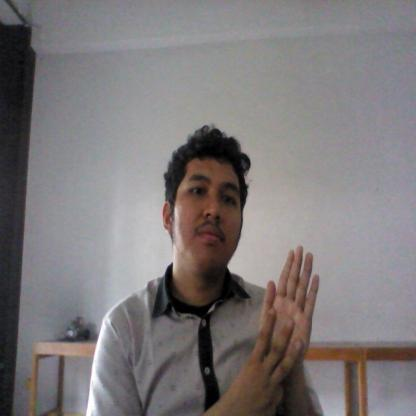M: (243, 242, 327, 416)
